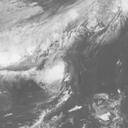cyclone: (36, 58, 69, 92)
